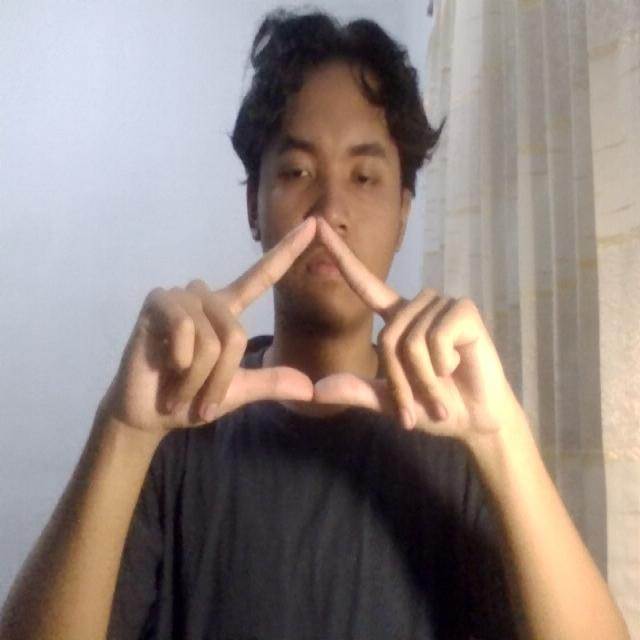A: (93, 203, 530, 461)
